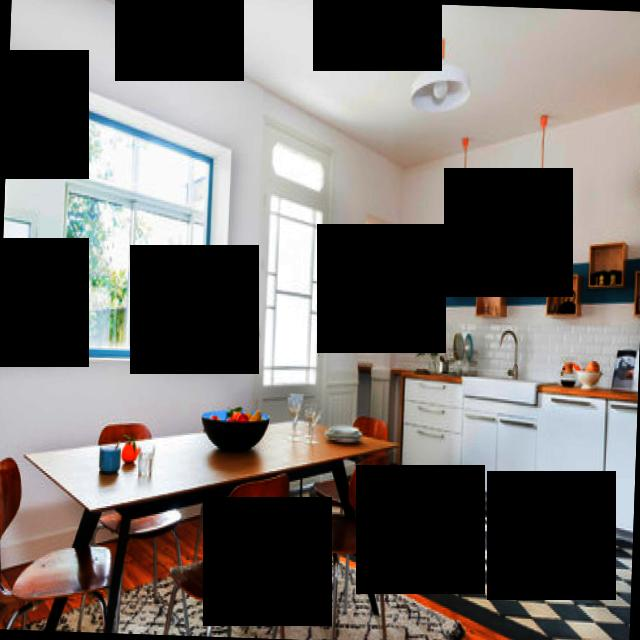vintage chair: (158, 469, 292, 639), (0, 453, 119, 633), (286, 446, 392, 640)
